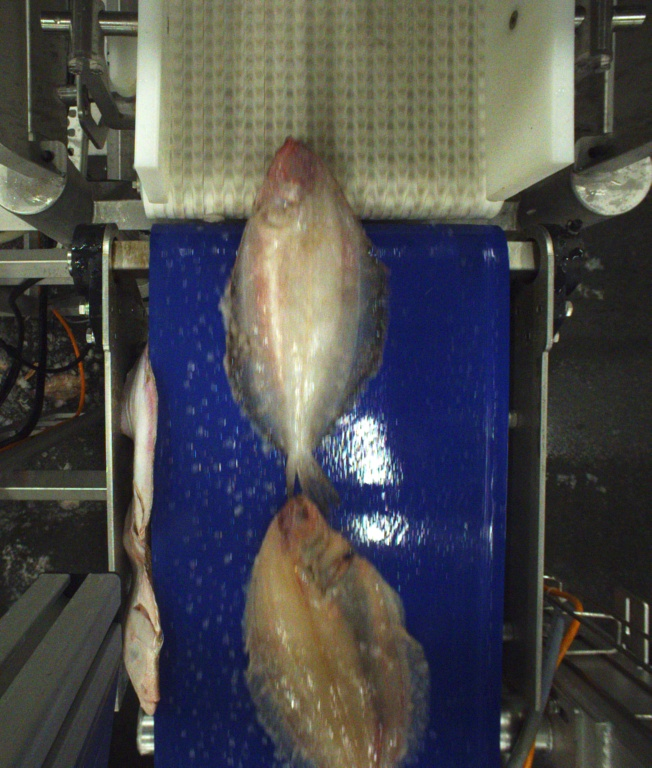WIT: (240, 502, 429, 768)
